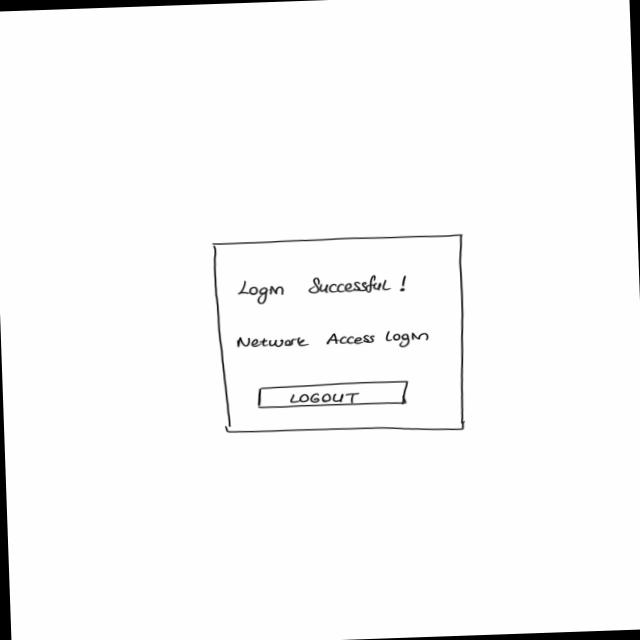button: (256, 380, 412, 411)
container: (211, 234, 470, 441)
label: (238, 274, 410, 307), (234, 329, 433, 355)
